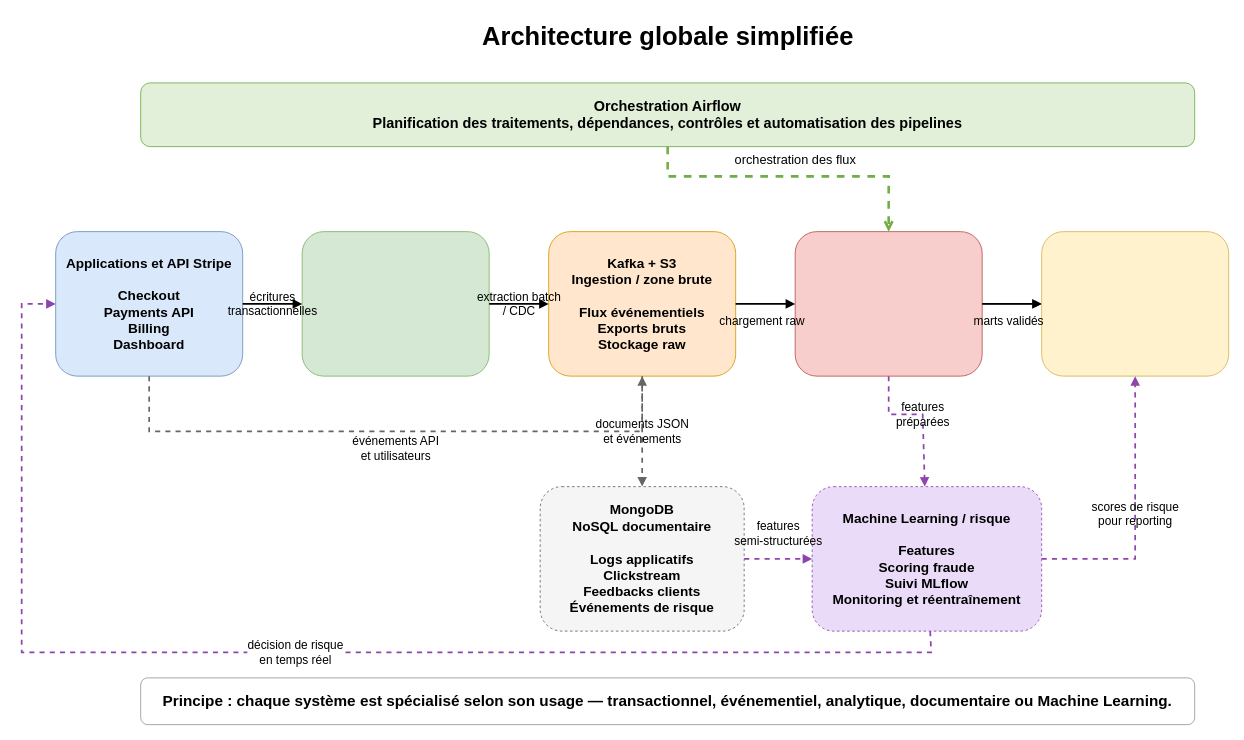
This 1244x740 diagram has some shape labels left out. The centre of each missing label's shape, as x and y in pixels:
"Analyses métier Reporting Revenu Risque Segmentation Conformité" goes at [1135,303].
"PostgreSQL / NeonDB OLTP Paiements Clients Marchands Intégrité ACID" goes at [395,303].
"Snowflake + dbt OLAP Staging Faits / dimensions Marts métier Snapshots SCD2" goes at [888,303].
